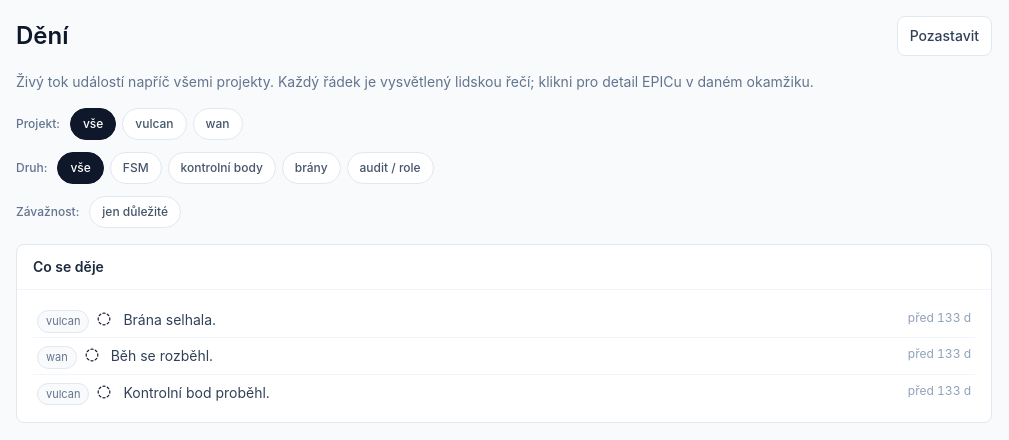
Test case: ScreenD — merged live activity stream › project filter narrows the feed to one project
Expected: the list is shown, x1=33 y1=302 x2=975 y2=410
Expected: the number of links is 3, x1=33 y1=302 x2=975 y2=337; x1=33 y1=338 x2=975 y2=374; x1=33 y1=374 x2=975 y2=410
Click the button "wan".
click(218, 124)  # box x1=192 y1=108 x2=242 y2=140
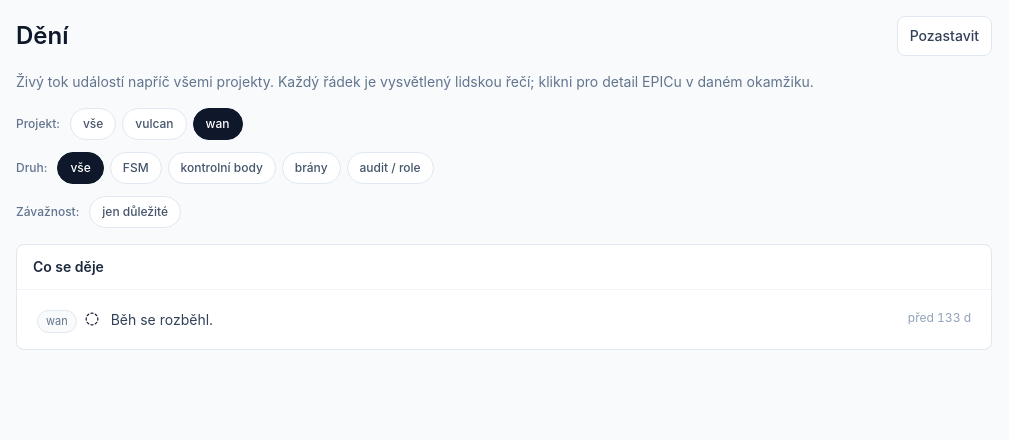
Expected: the list shows "Běh se rozběhl.", x1=33 y1=302 x2=975 y2=337
Now the number of links is 1, box x1=33 y1=302 x2=975 y2=337
Now the list no longer shows "Brána selhala.", box x1=33 y1=302 x2=975 y2=337
